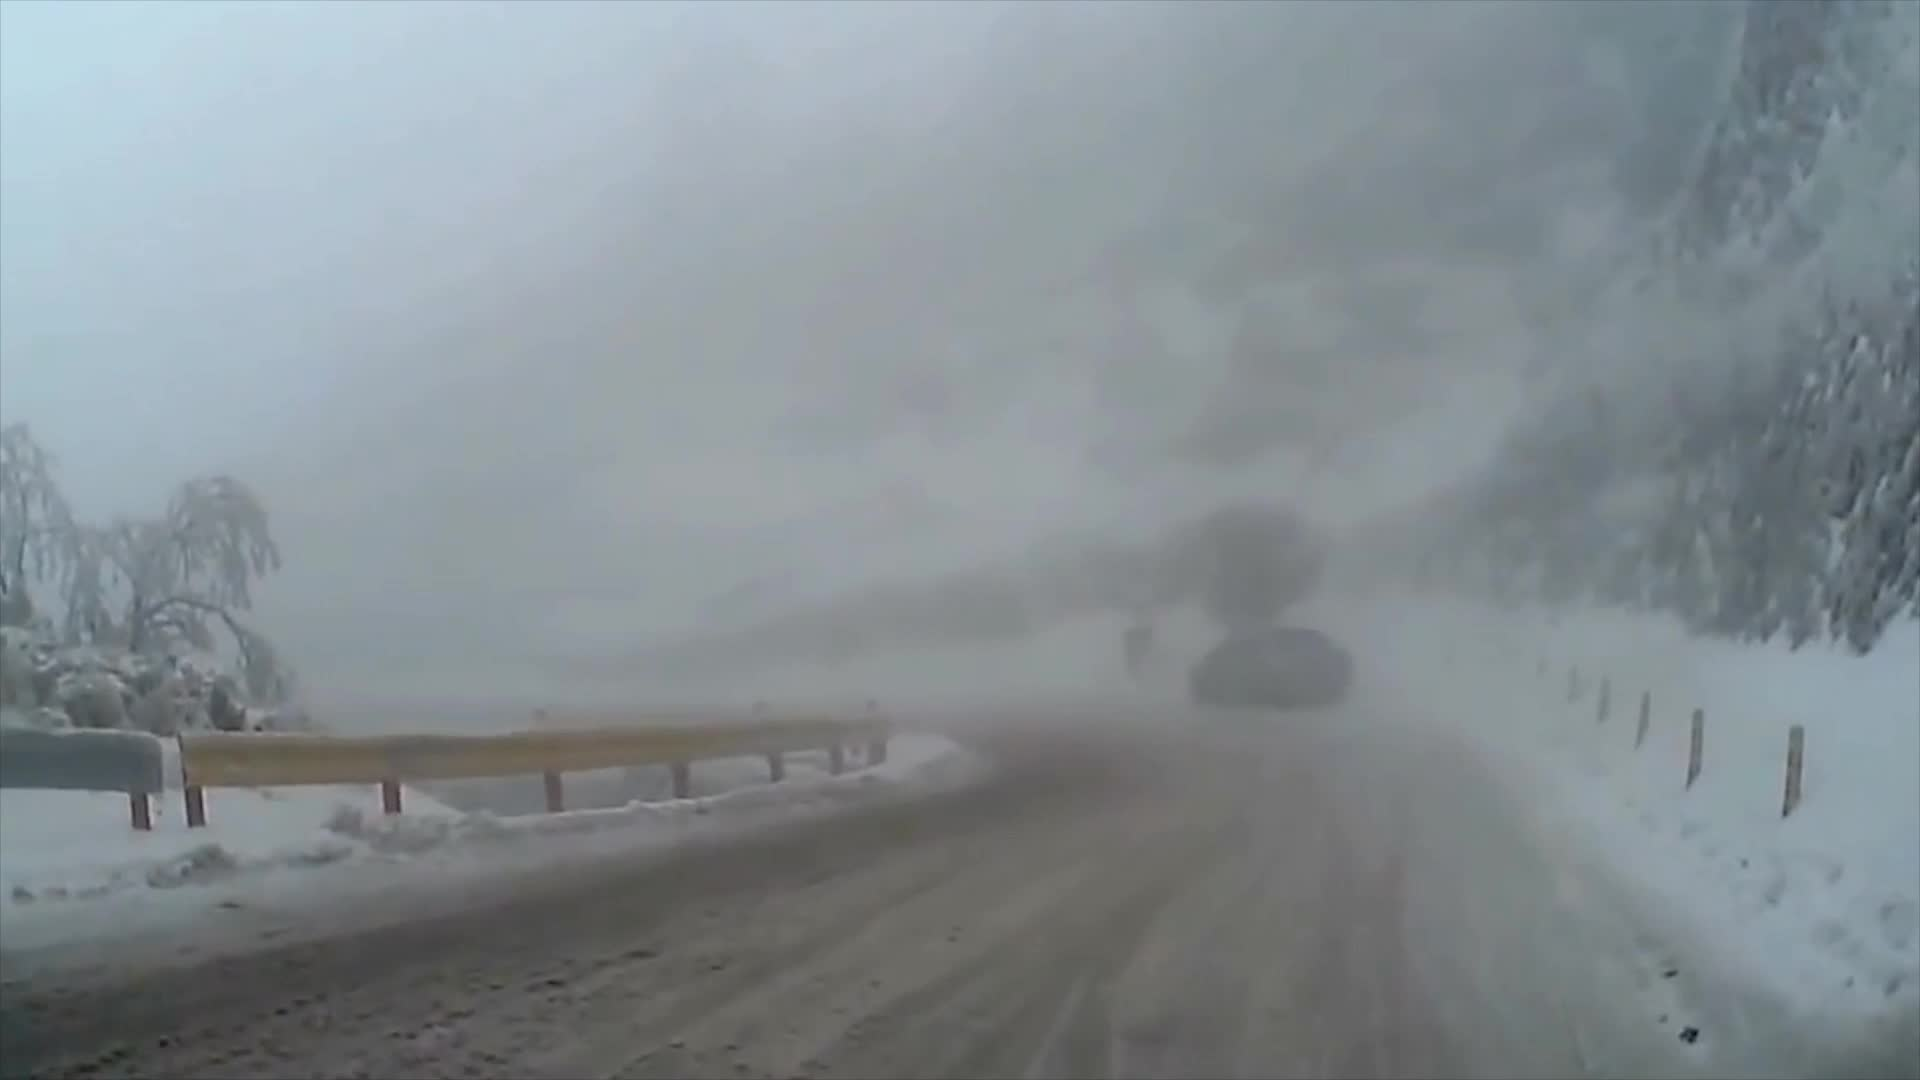vehicle: (1189, 626, 1354, 711)
